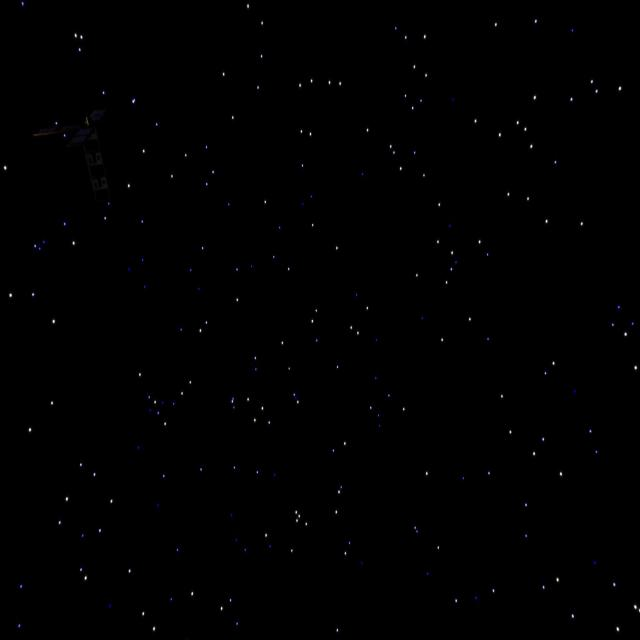satellite: (24, 85, 136, 201)
